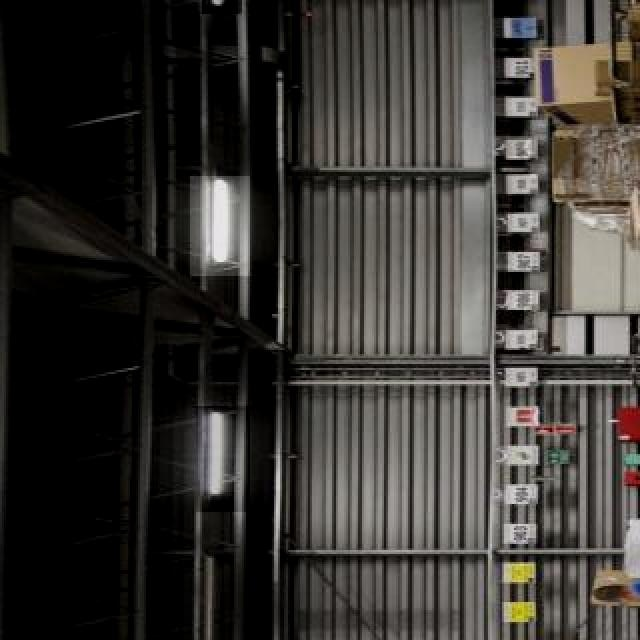fluorescent tube: (194, 403, 234, 525), (196, 171, 242, 276)
